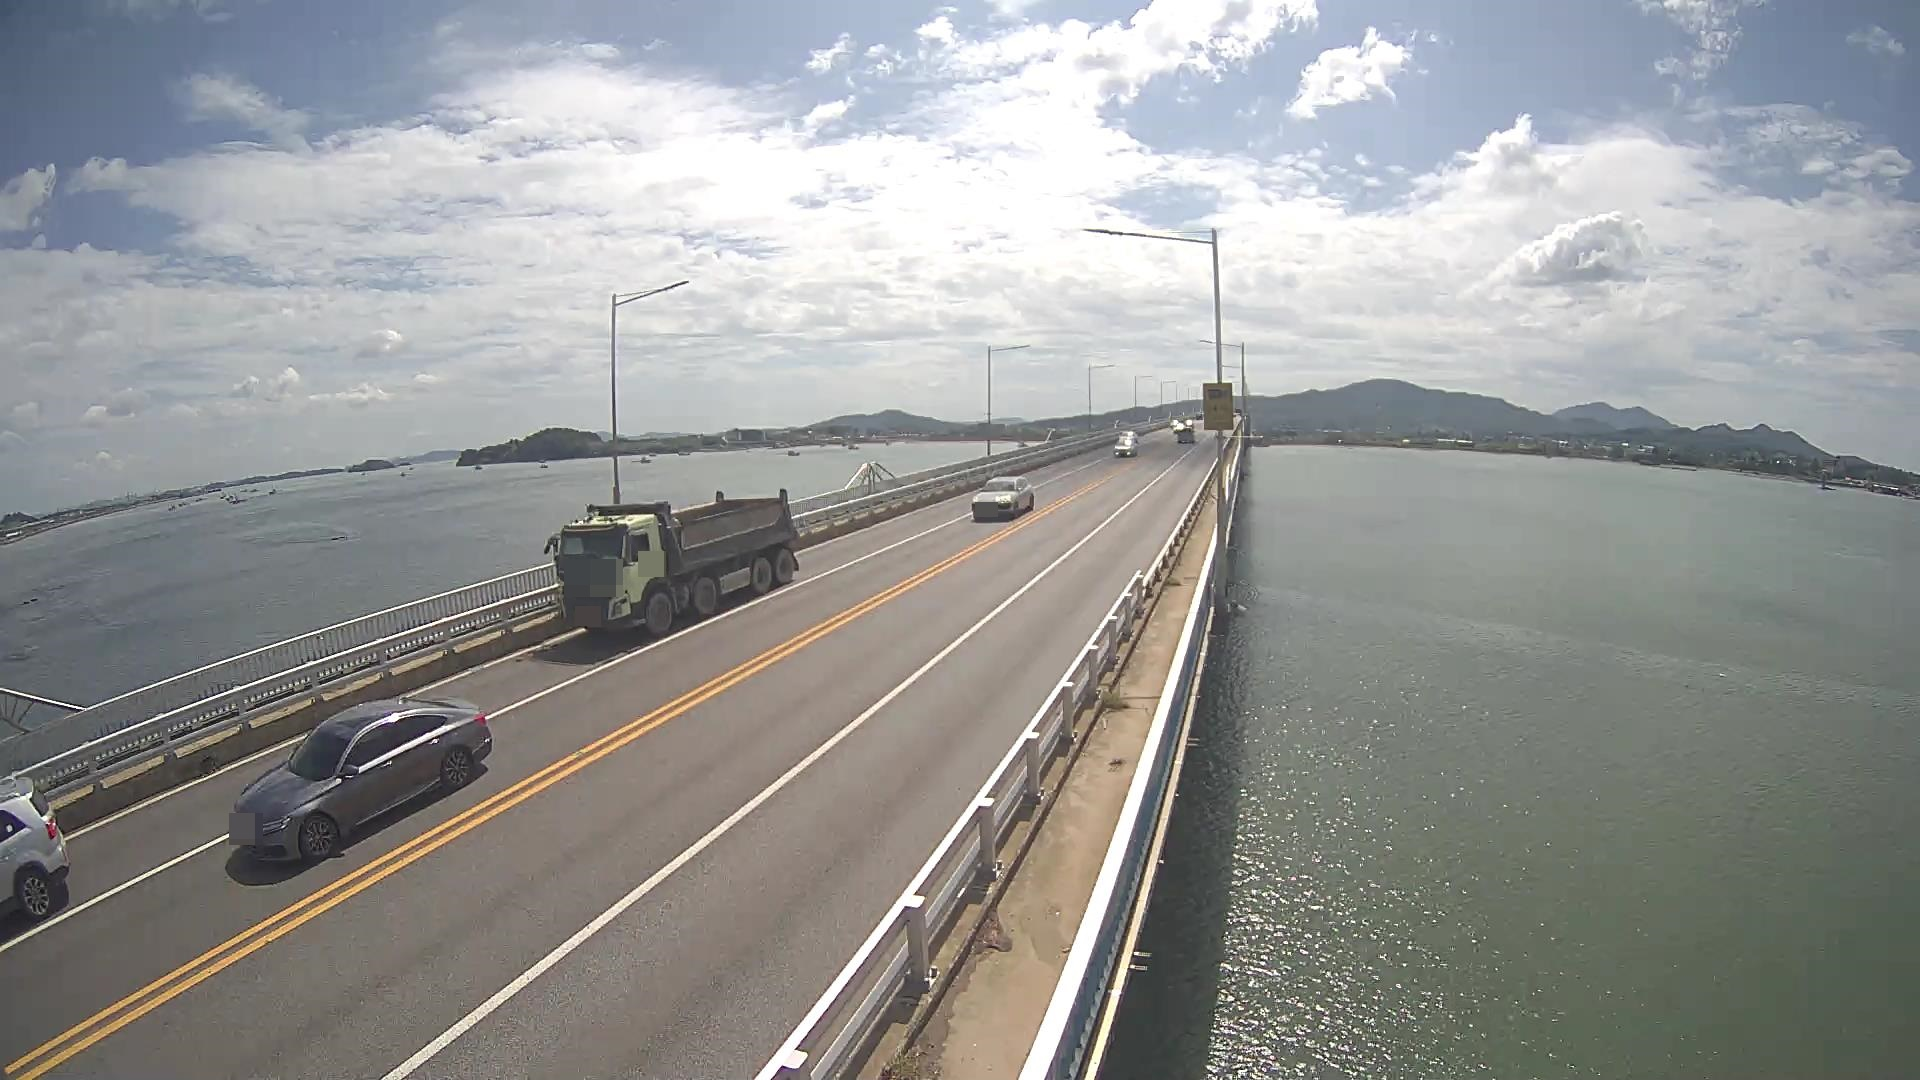정상차량: (543, 488, 799, 636)
